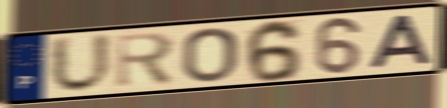6: (243, 17, 305, 83), (314, 15, 363, 76)
A: (366, 13, 435, 71)
O: (180, 25, 241, 84)
R: (114, 30, 178, 91)
U: (48, 31, 115, 96)
